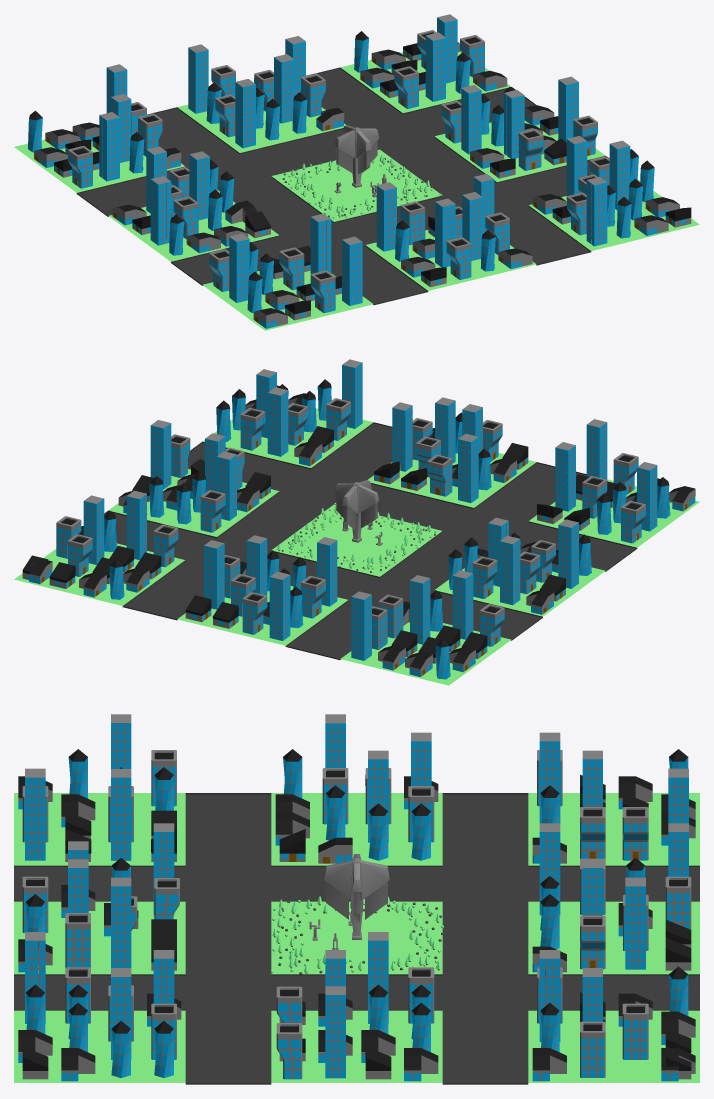
File: vr_sculpture_park.glb
The picture shows the model from 3 angles, top to bottom: view 1: azimuth 30°, elevation 25°; view 2: azimuth 150°, elevation 25°; view 3: azimuth 270°, elevation 25°; orthographic projection. The views are drawn at different scales.
Parts seen in each view (by area): view 1: Object_2, Object_13, Object_14, Object_16, Object_3, Object_12, Object_8, Object_7, Object_10, Object_11, Object_9, Object_6 (+3 smaller); view 2: Object_2, Object_14, Object_13, Object_16, Object_3, Object_7, Object_8, Object_11, Object_10, Object_9, Object_12, Object_6 (+3 smaller); view 3: Object_2, Object_16, Object_13, Object_3, Object_14, Object_8, Object_7, Object_11, Object_10, Object_12, Object_9, Object_6 (+2 smaller).
Boxes of the visible parts, x1=… form: Object_2: x1=76, y1=67, x2=609, y2=305; Object_13: x1=28, y1=17, x2=685, y2=328; Object_14: x1=106, y1=39, x2=630, y2=312; Object_16: x1=14, y1=51, x2=699, y2=330; Object_3: x1=29, y1=31, x2=691, y2=315; Object_12: x1=34, y1=43, x2=679, y2=328; Object_8: x1=131, y1=30, x2=609, y2=311; Object_7: x1=68, y1=70, x2=597, y2=312; Object_10: x1=99, y1=14, x2=630, y2=273; Object_11: x1=106, y1=32, x2=482, y2=301; Object_9: x1=28, y1=39, x2=653, y2=304; Object_6: x1=54, y1=49, x2=691, y2=320; Object_2: x1=104, y1=422, x2=637, y2=659; Object_14: x1=68, y1=362, x2=645, y2=660; Object_13: x1=28, y1=386, x2=695, y2=679; Object_16: x1=14, y1=408, x2=699, y2=685; Object_3: x1=22, y1=379, x2=694, y2=668; Object_7: x1=185, y1=398, x2=645, y2=646; Object_8: x1=56, y1=408, x2=669, y2=649; Object_11: x1=126, y1=397, x2=657, y2=659; Object_10: x1=83, y1=359, x2=578, y2=638; Object_9: x1=104, y1=387, x2=611, y2=678; Object_12: x1=29, y1=398, x2=695, y2=676; Object_6: x1=22, y1=440, x2=612, y2=663; Object_2: x1=14, y1=793, x2=699, y2=1084; Object_16: x1=14, y1=793, x2=699, y2=1082; Object_13: x1=18, y1=723, x2=688, y2=1081; Object_3: x1=18, y1=749, x2=695, y2=1070; Object_14: x1=24, y1=741, x2=688, y2=1079; Object_8: x1=69, y1=759, x2=691, y2=1079; Object_7: x1=22, y1=750, x2=691, y2=1041; Object_11: x1=68, y1=714, x2=688, y2=1033; Object_10: x1=25, y1=714, x2=602, y2=1078; Object_12: x1=18, y1=784, x2=695, y2=1081; Object_9: x1=25, y1=759, x2=688, y2=1076; Object_6: x1=22, y1=799, x2=691, y2=1079.
Bounding box in the file's own units: 215 × 29.38 × 215.
